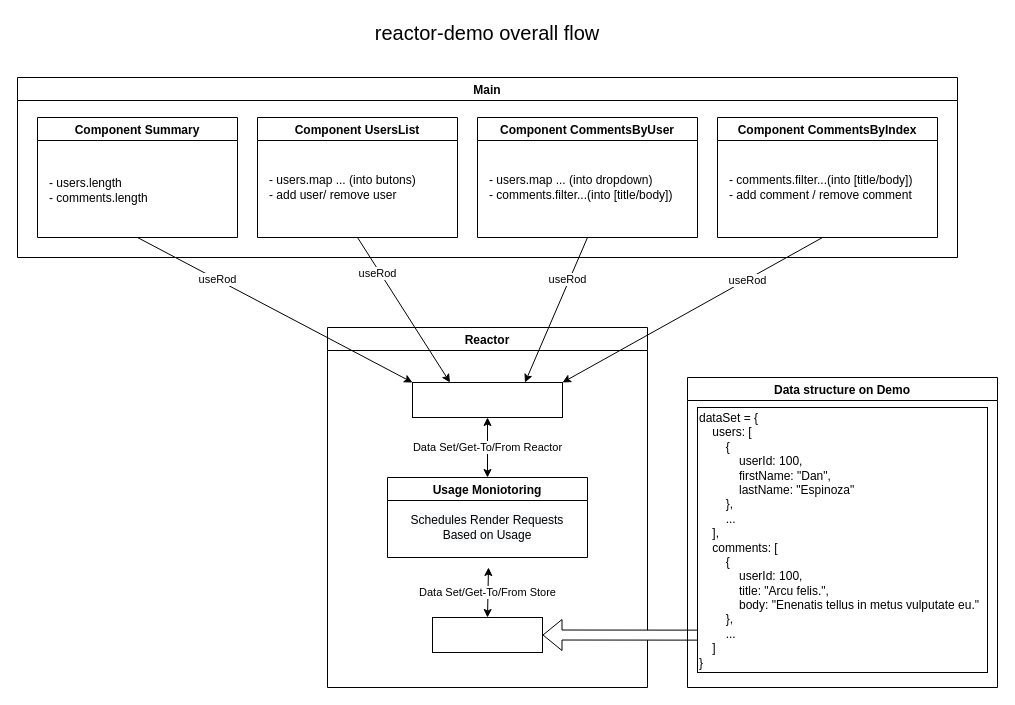
The diagram is 1015 pixels wide and 705 high, and some of its shapes have lost their labels. Each missing label, with the centre of its shape:
Components Registry: point (487, 400)
Data Store: point (487, 634)
